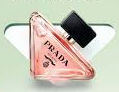prada_paradoxe: (28, 8, 97, 84)
